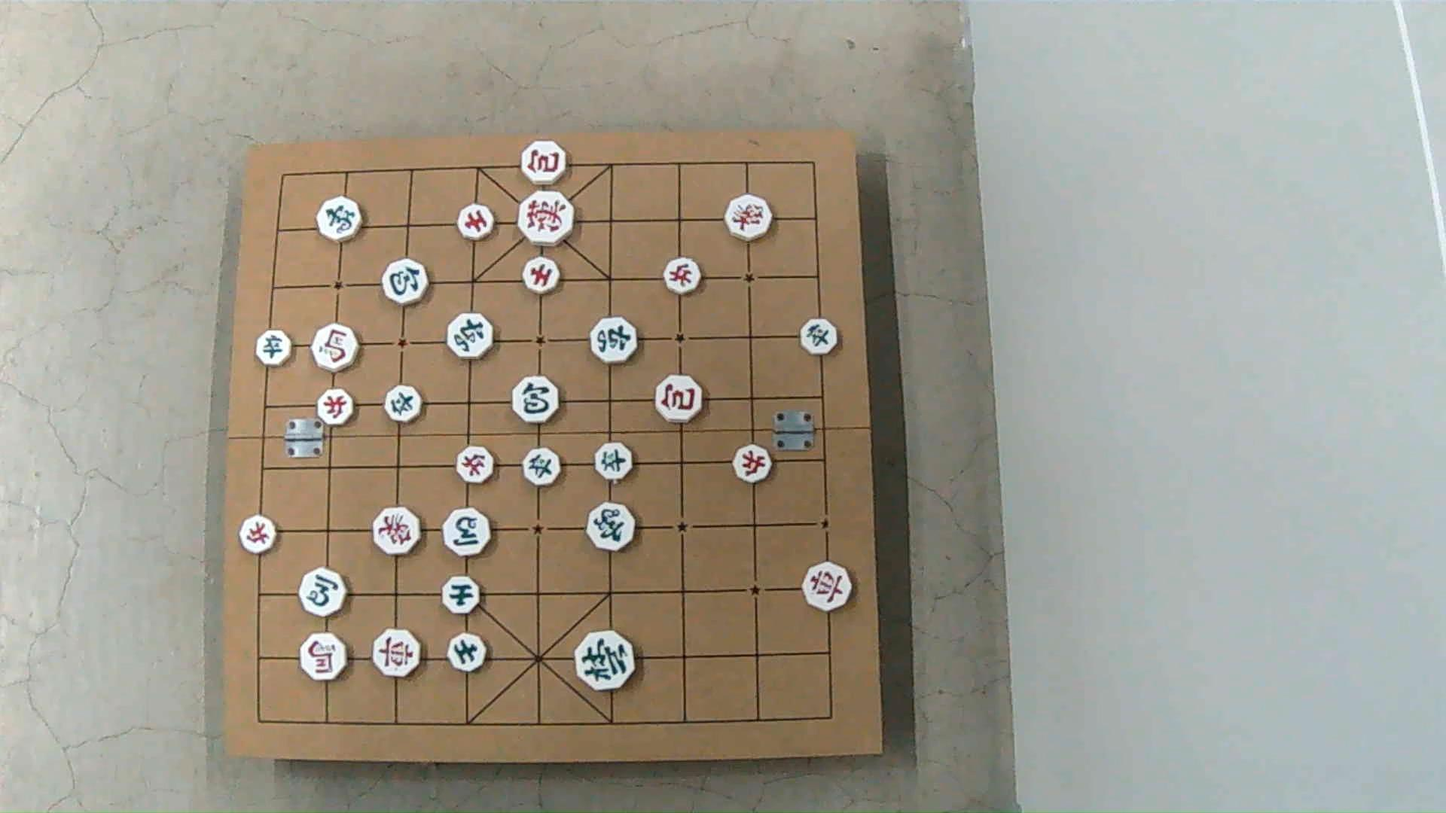cha_green: (592, 318, 640, 366), (448, 312, 495, 358)
cha_red: (801, 562, 850, 611), (374, 629, 422, 676)
jol_green: (524, 448, 562, 486), (801, 321, 838, 358), (597, 443, 634, 480), (385, 385, 421, 422), (254, 331, 290, 367)
jol_red: (458, 447, 496, 485), (734, 446, 773, 483), (240, 515, 277, 553), (663, 257, 700, 295), (317, 389, 353, 427)
ma_green: (443, 509, 490, 556), (300, 568, 346, 616)
ma_red: (310, 323, 359, 372), (300, 633, 348, 681)
po_green: (514, 377, 560, 425), (382, 260, 428, 305)
po_red: (654, 376, 701, 422), (522, 142, 568, 185)
sa_green: (450, 635, 487, 674), (442, 577, 480, 614)
sa_red: (523, 257, 561, 295), (459, 203, 495, 239)
sang_green: (589, 503, 636, 551), (316, 199, 360, 243)
sang_red: (375, 506, 423, 555), (725, 194, 772, 241)
wang_green: (577, 632, 636, 691)
wang_red: (518, 193, 574, 247)
